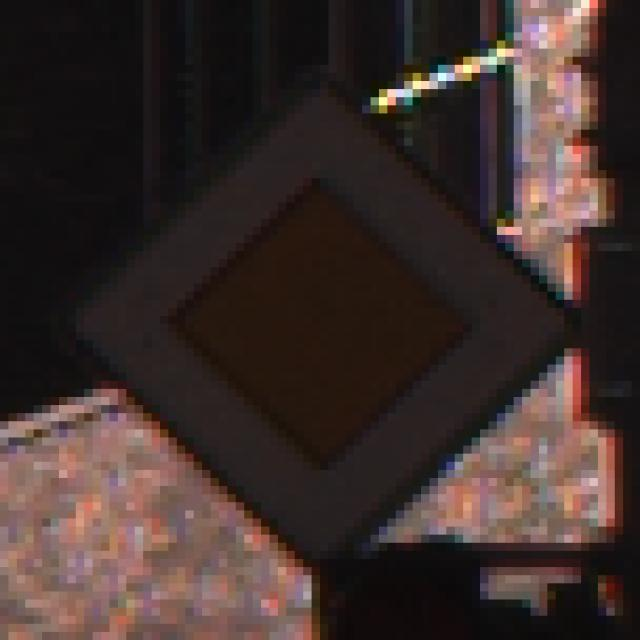Main Road: (52, 58, 591, 584)
